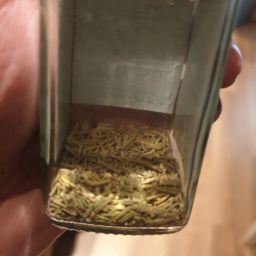Rosemary: (67, 100, 176, 256), (12, 174, 212, 256), (89, 145, 167, 243)
